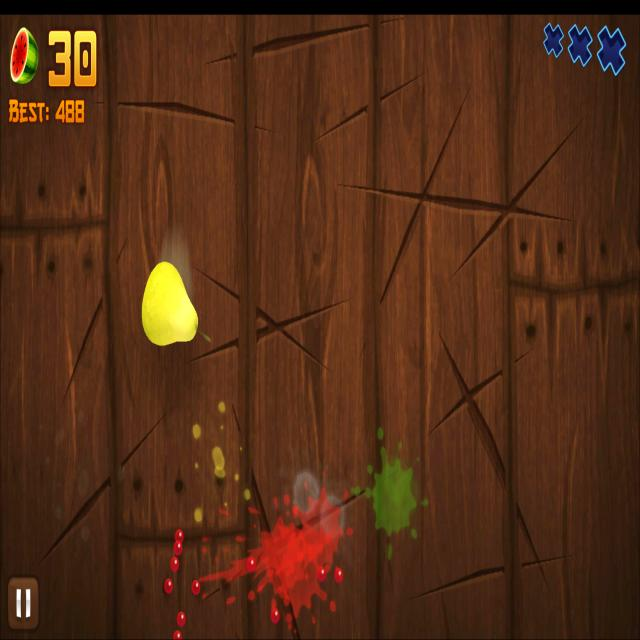fruit: (140, 260, 198, 348)
